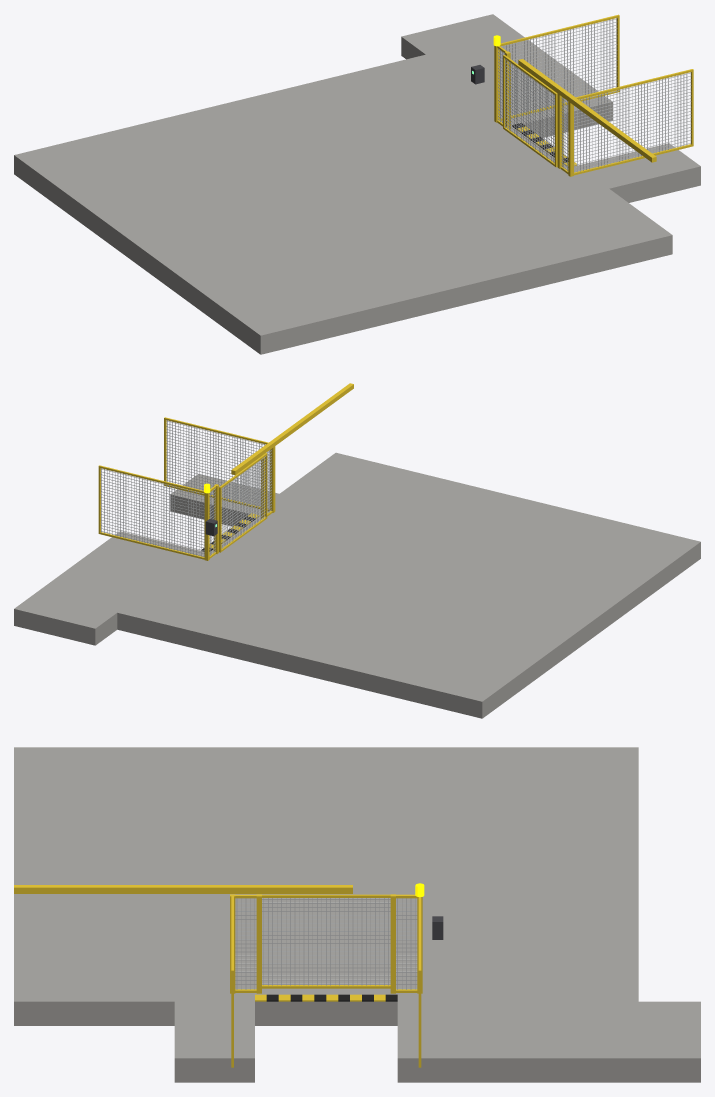
The model's file is SK_LoadingStation.glb.
3 views of the same model, one above another, from view 1: azimuth 30°, elevation 25°; view 2: azimuth 150°, elevation 25°; view 3: azimuth 270°, elevation 25° (orthographic). The views are drawn at different scales.
Parts seen in each view (by area): view 1: SK_Station_Floor, SK_Shaft_Barrier, SK_Shaft_Gate; view 2: SK_Station_Floor, SK_Shaft_Barrier, SK_Shaft_Gate; view 3: SK_Station_Floor, SK_Shaft_Barrier, SK_Shaft_Gate.
Boxes of the visible parts, x1=… form: SK_Station_Floor: x1=14, y1=14, x2=700, y2=354; SK_Shaft_Barrier: x1=471, y1=14, x2=693, y2=176; SK_Shaft_Gate: x1=503, y1=55, x2=557, y2=167; SK_Station_Floor: x1=14, y1=452, x2=700, y2=718; SK_Shaft_Barrier: x1=98, y1=383, x2=353, y2=560; SK_Shaft_Gate: x1=219, y1=453, x2=267, y2=552; SK_Station_Floor: x1=14, y1=747, x2=700, y2=1082; SK_Shaft_Barrier: x1=14, y1=883, x2=443, y2=1067; SK_Shaft_Gate: x1=262, y1=894, x2=390, y2=988.
Bounding box in the file's own units: 17 × 3.25 × 15.4.
